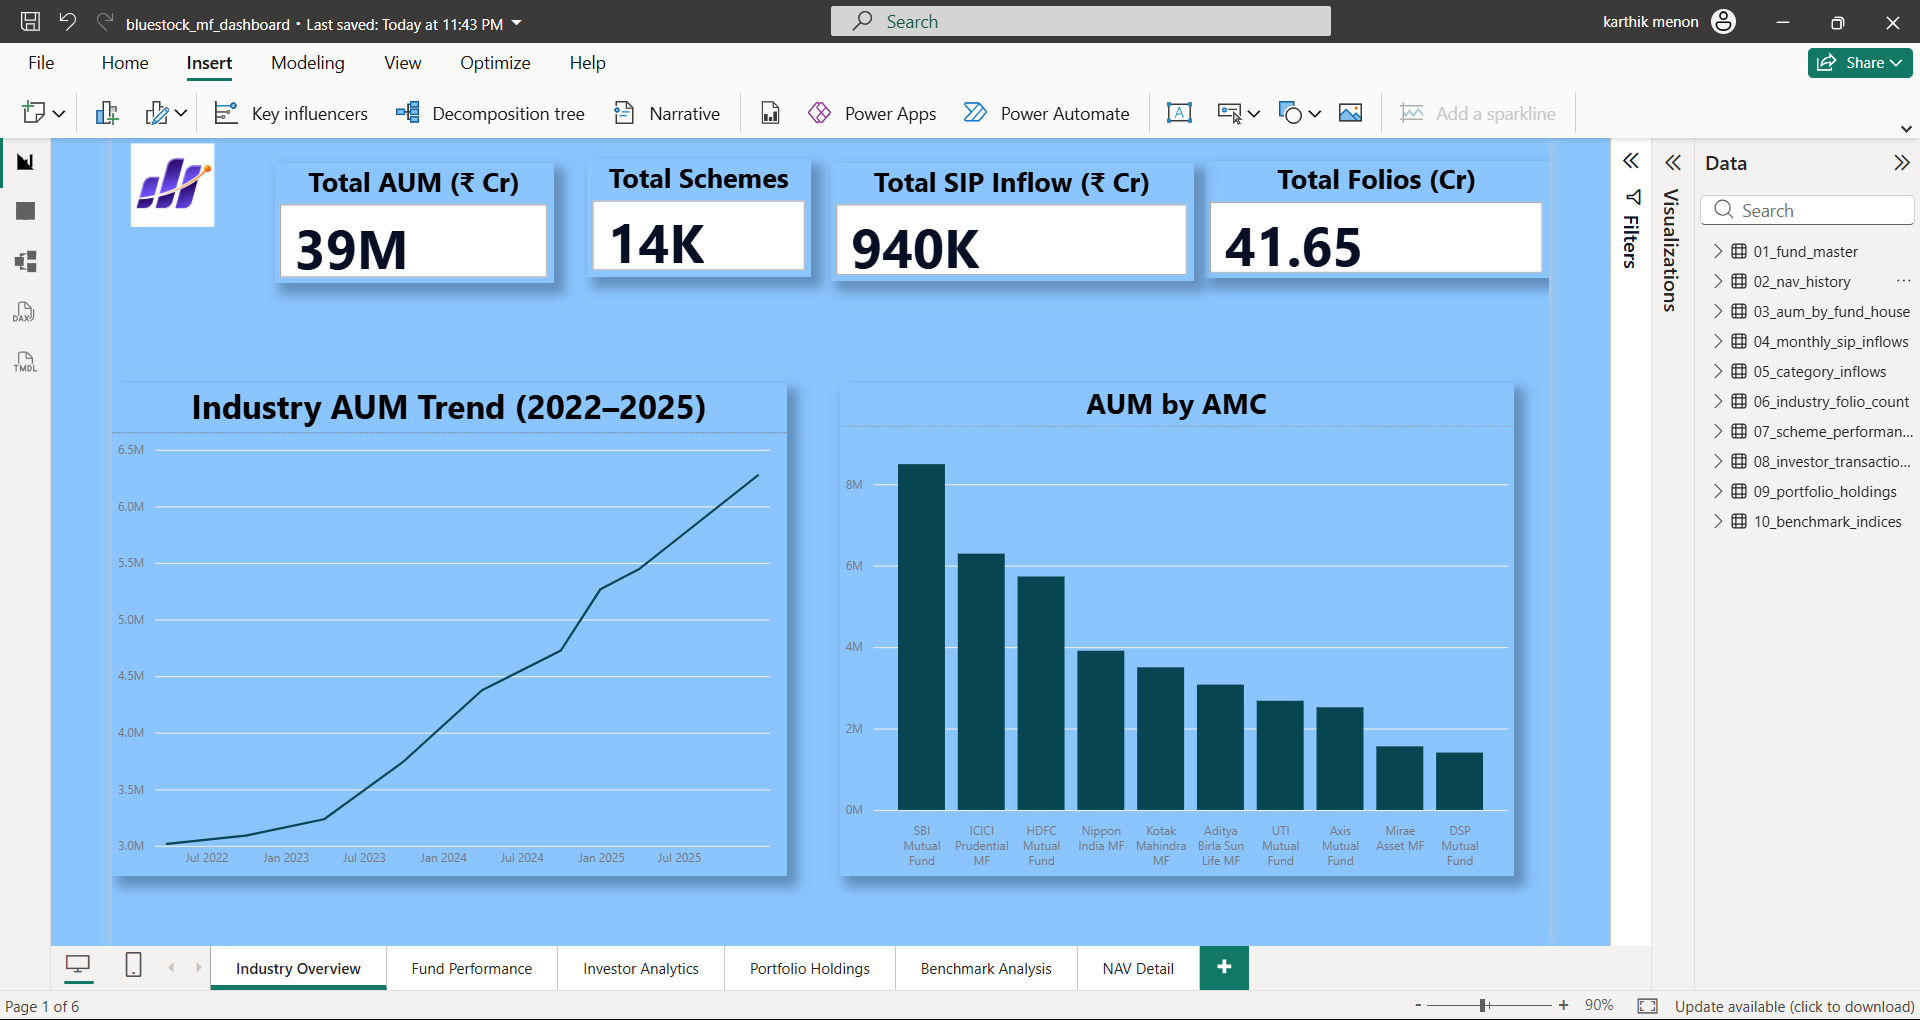

The page's visual inventory and layout, read from the dashboard file:
{"tool":"powerbi","page":{"name":"Industry Overview","canvas":[1280,720],"ordinal":0},"visuals":[{"type":"cardVisual","title":"Total AUM (₹ Cr)","fields":{"Data":["Sum(03_aum_by_fund_house.aum_crore)"]},"box":[144.8,21.7,248.5,107.4],"z":0},{"type":"cardVisual","title":"Total SIP Inflow (₹ Cr)","fields":{"Data":["Sum(04_monthly_sip_inflows.sip_inflow_crore)"]},"box":[639.5,22,322.8,105.2],"z":1000},{"type":"cardVisual","title":"Total Folios (Cr)","fields":{"Data":["Sum(06_industry_folio_count.others_folios_crore)"]},"box":[973.4,19.6,306.9,105],"z":2000},{"type":"cardVisual","title":"Total Schemes","fields":{"Data":["Sum(03_aum_by_fund_house.num_schemes)"]},"box":[423.5,19.3,199.1,105],"z":3000},{"type":"lineChart","title":"Industry AUM Trend (2022–2025)","fields":{"Y":["Sum(03_aum_by_fund_house.aum_crore)"],"Category":["03_aum_by_fund_house.date"]},"box":[0,217.7,600.4,439],"z":4000},{"type":"columnChart","title":"AUM by AMC","fields":{"Category":["03_aum_by_fund_house.fund_house"],"Y":["Sum(03_aum_by_fund_house.aum_crore)"]},"box":[648.1,217.7,600.4,439],"z":5000},{"type":"image","box":[0,0,107.4,84.5],"z":5001}]}

Visuals, with their boxes on the page's 1280x720 design canvas (x1, y1, x2, y2). These are canvas units, not pixel positions in the 1920x1020 screenshot, which may show the page scaled, cropped or inside an application window:
"Total AUM (₹ Cr)" cardVisual: box=[145, 22, 393, 129]
"Total SIP Inflow (₹ Cr)" cardVisual: box=[640, 22, 962, 127]
"Total Folios (Cr)" cardVisual: box=[973, 20, 1280, 125]
"Total Schemes" cardVisual: box=[424, 19, 623, 124]
"Industry AUM Trend (2022–2025)" lineChart: box=[0, 218, 600, 657]
"AUM by AMC" columnChart: box=[648, 218, 1248, 657]
image: box=[0, 0, 107, 84]
